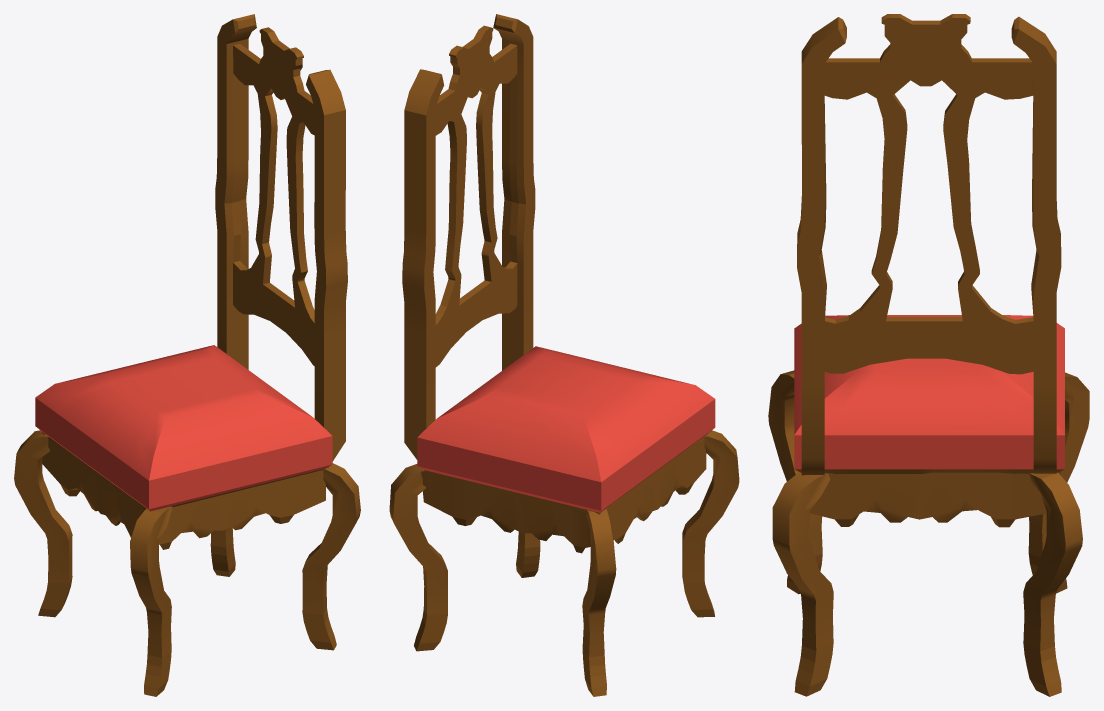
The model's file is Chair(v1.Textured).fbx.
The picture shows the model from 3 angles, left to right: view 1: azimuth 30°, elevation 25°; view 2: azimuth 150°, elevation 25°; view 3: azimuth 270°, elevation 25°; orthographic projection. The views are drawn at different scales.
Parts seen in each view (by area): view 1: Chair; view 2: Chair; view 3: Chair.
Boxes of the visible parts, x1,y1,x2,y2 form: Chair: (14, 14, 360, 696); Chair: (389, 14, 739, 696); Chair: (768, 14, 1089, 696).
Size of the model in its own units: 951 by 2228 by 957.
